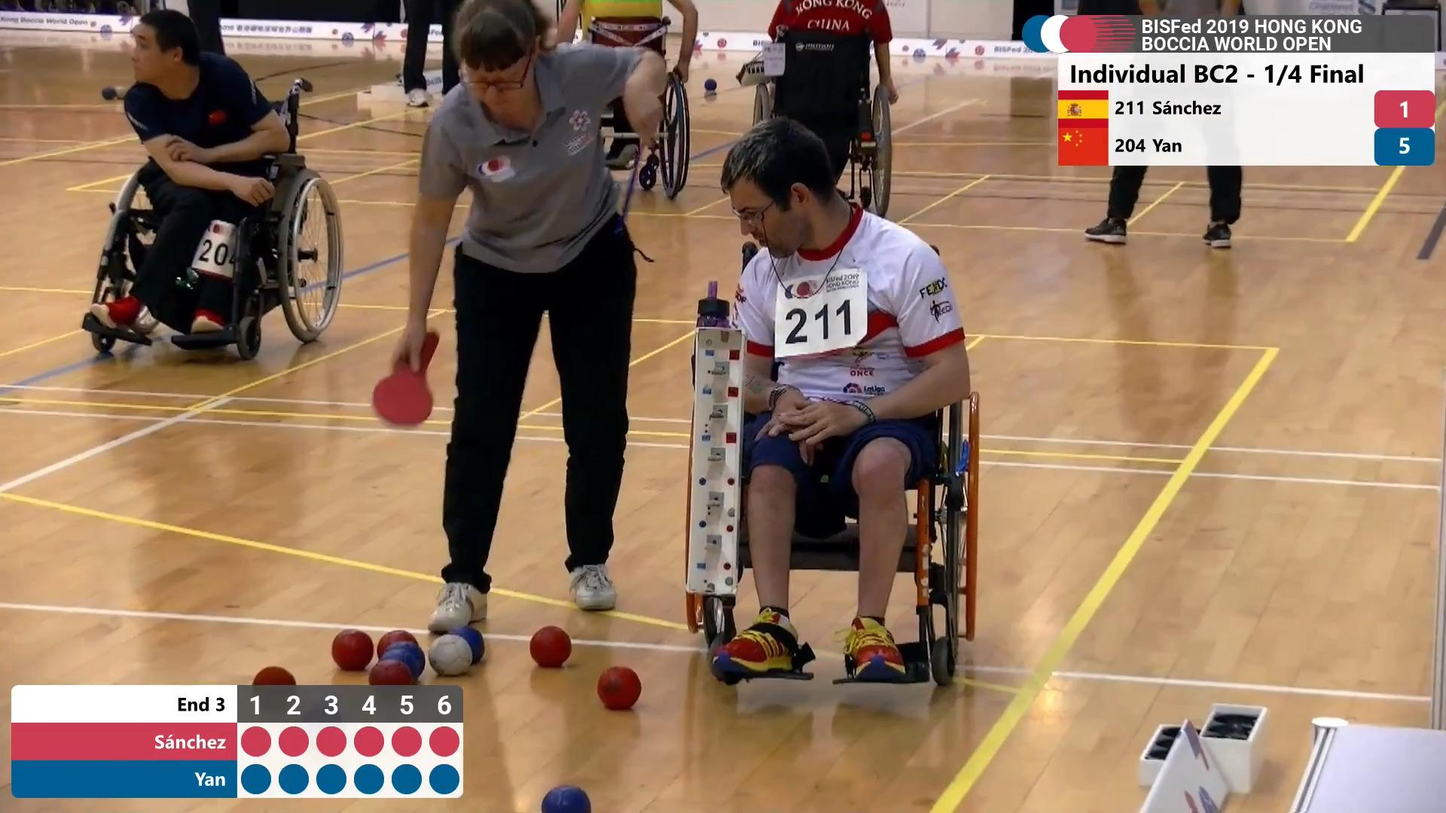blue_ball: (545, 784, 591, 813)
red_ball: (528, 624, 574, 672), (597, 665, 642, 712), (330, 626, 374, 672)
white_ball: (428, 633, 475, 679)
